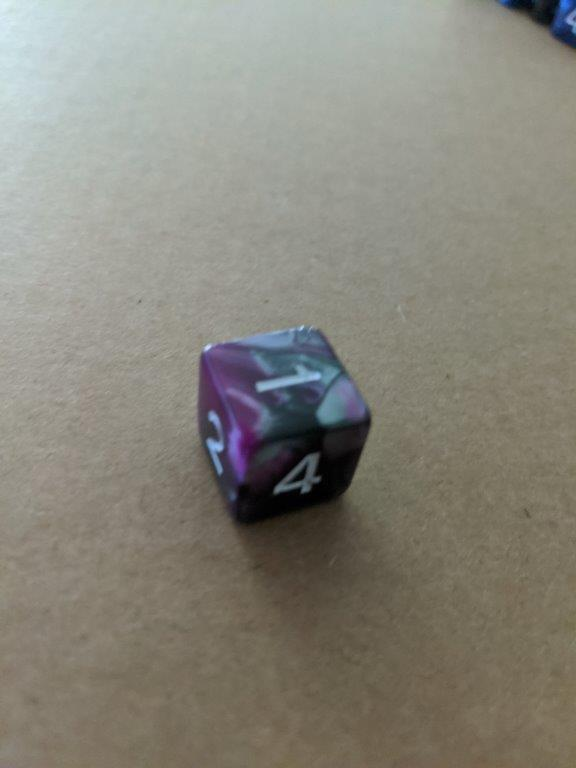d6-1: (196, 323, 373, 525)
